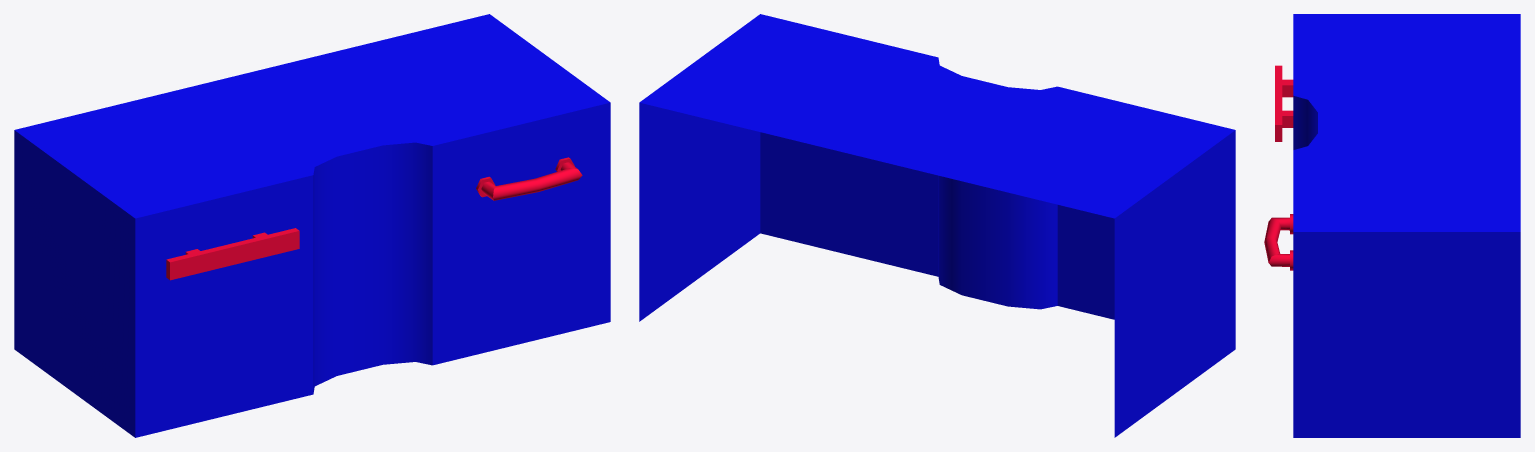
Rendered from CleaningRoom_Table.fbx.
The picture shows the model from 3 angles, left to right: view 1: azimuth 30°, elevation 25°; view 2: azimuth 150°, elevation 25°; view 3: azimuth 270°, elevation 25°; orthographic projection. The views are drawn at different scales.
Parts seen in each view (by area): view 1: CleaningRoom_Desk; view 2: CleaningRoom_Desk; view 3: CleaningRoom_Desk.
Part boxes in pixels (x1,y1,x2,y2): CleaningRoom_Desk: [14, 14, 610, 437]; CleaningRoom_Desk: [639, 14, 1235, 437]; CleaningRoom_Desk: [1264, 14, 1520, 437].
Size of the model in its own units: 835 by 368 by 416.
